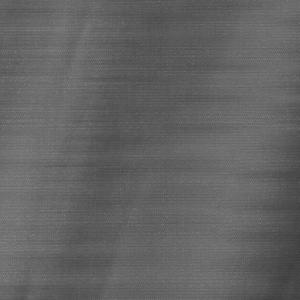Wrinkle: (227, 72, 300, 300), (76, 155, 163, 300), (36, 1, 109, 129), (8, 262, 45, 300)
